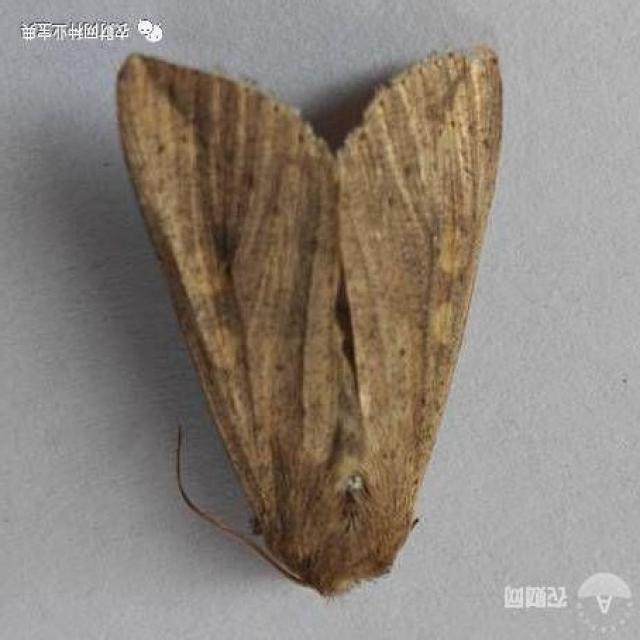army worm: (109, 48, 511, 609)
